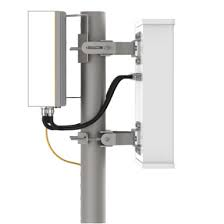sa: (125, 15, 185, 179), (21, 11, 72, 112)
